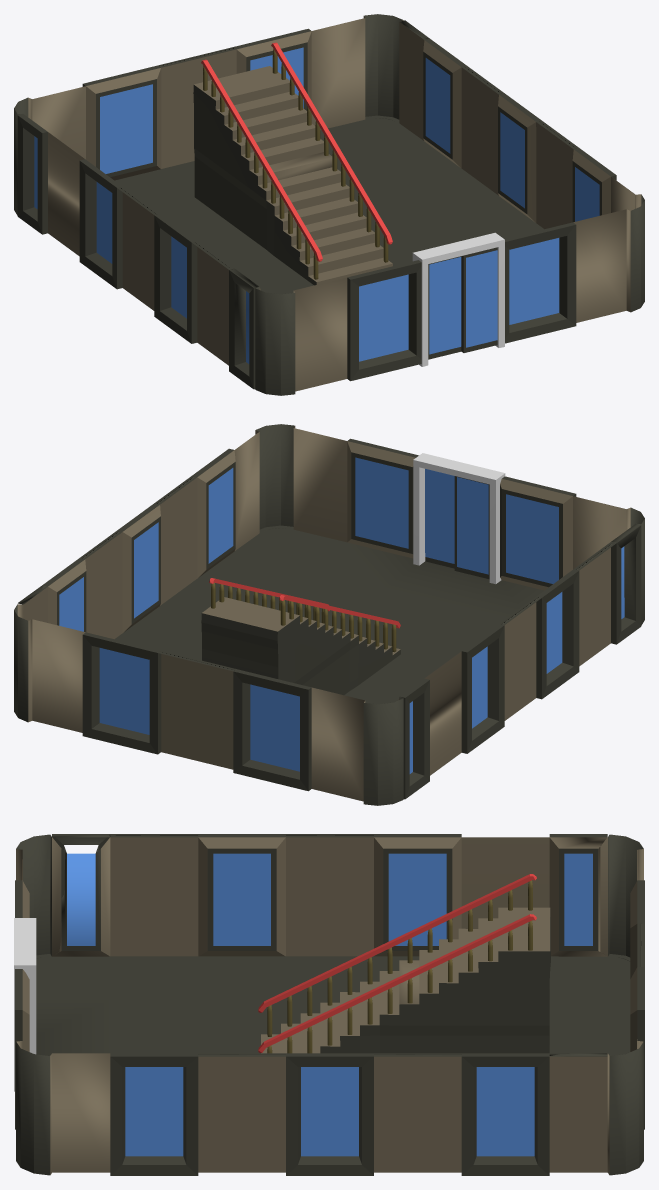
The model's file is Hotel Interior 1.fbx.
The picture shows the model from 3 angles, top to bottom: view 1: azimuth 30°, elevation 25°; view 2: azimuth 150°, elevation 25°; view 3: azimuth 270°, elevation 25°; orthographic projection. The views are drawn at different scales.
Parts seen in each view (by area): view 1: hotel basado.002; view 2: hotel basado.002; view 3: hotel basado.002.
Boxes of the visible parts, x1=… form: hotel basado.002: x1=14, y1=14, x2=644, y2=395; hotel basado.002: x1=14, y1=424, x2=644, y2=805; hotel basado.002: x1=14, y1=834, x2=644, y2=1175.
Size of the model in its own units: 1860 by 665 by 2229.
